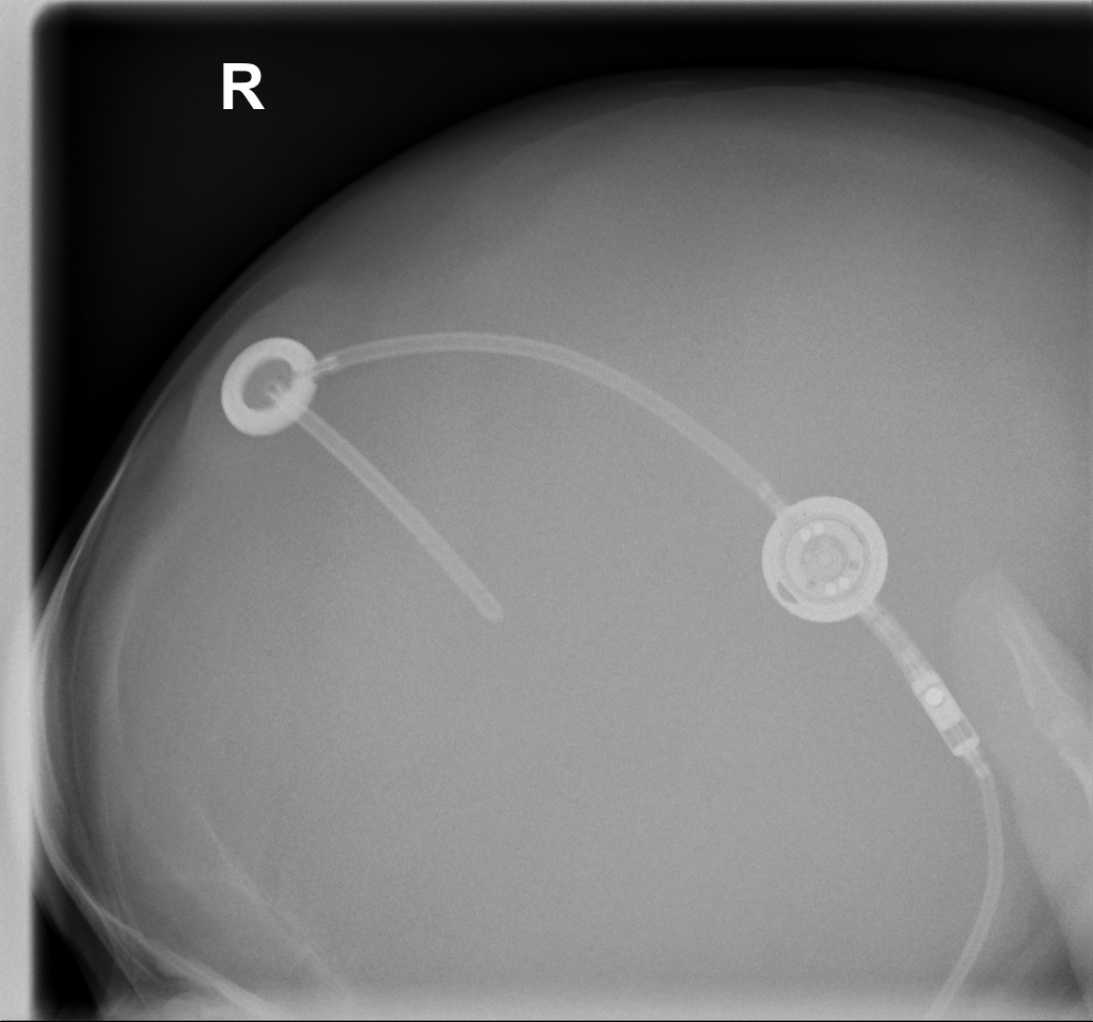proGAV 2.0: (756, 491, 893, 630)
proGAV Gravitationseinheit: (889, 648, 991, 775)
